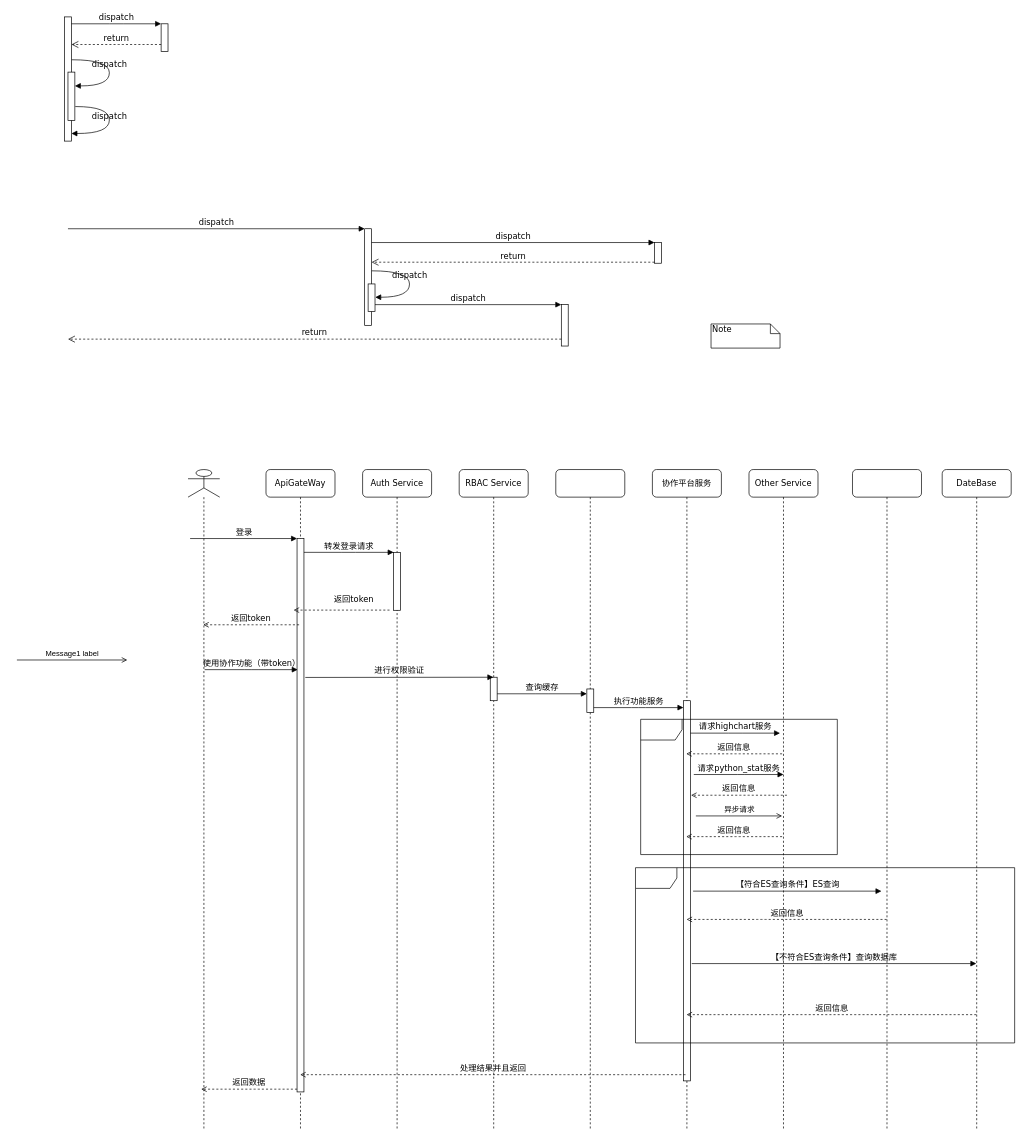
The diagram is 1027 pixels wide and 1143 high, and some of its shapes have lost their labels. Here are the shapes that lost their labels. From the top down, the box of each, then its label:
(555, 469, 625, 1131): Cache
(640, 719, 837, 855): Opt
(852, 469, 921, 1131): ES Service
(635, 867, 1015, 1043): Alt
